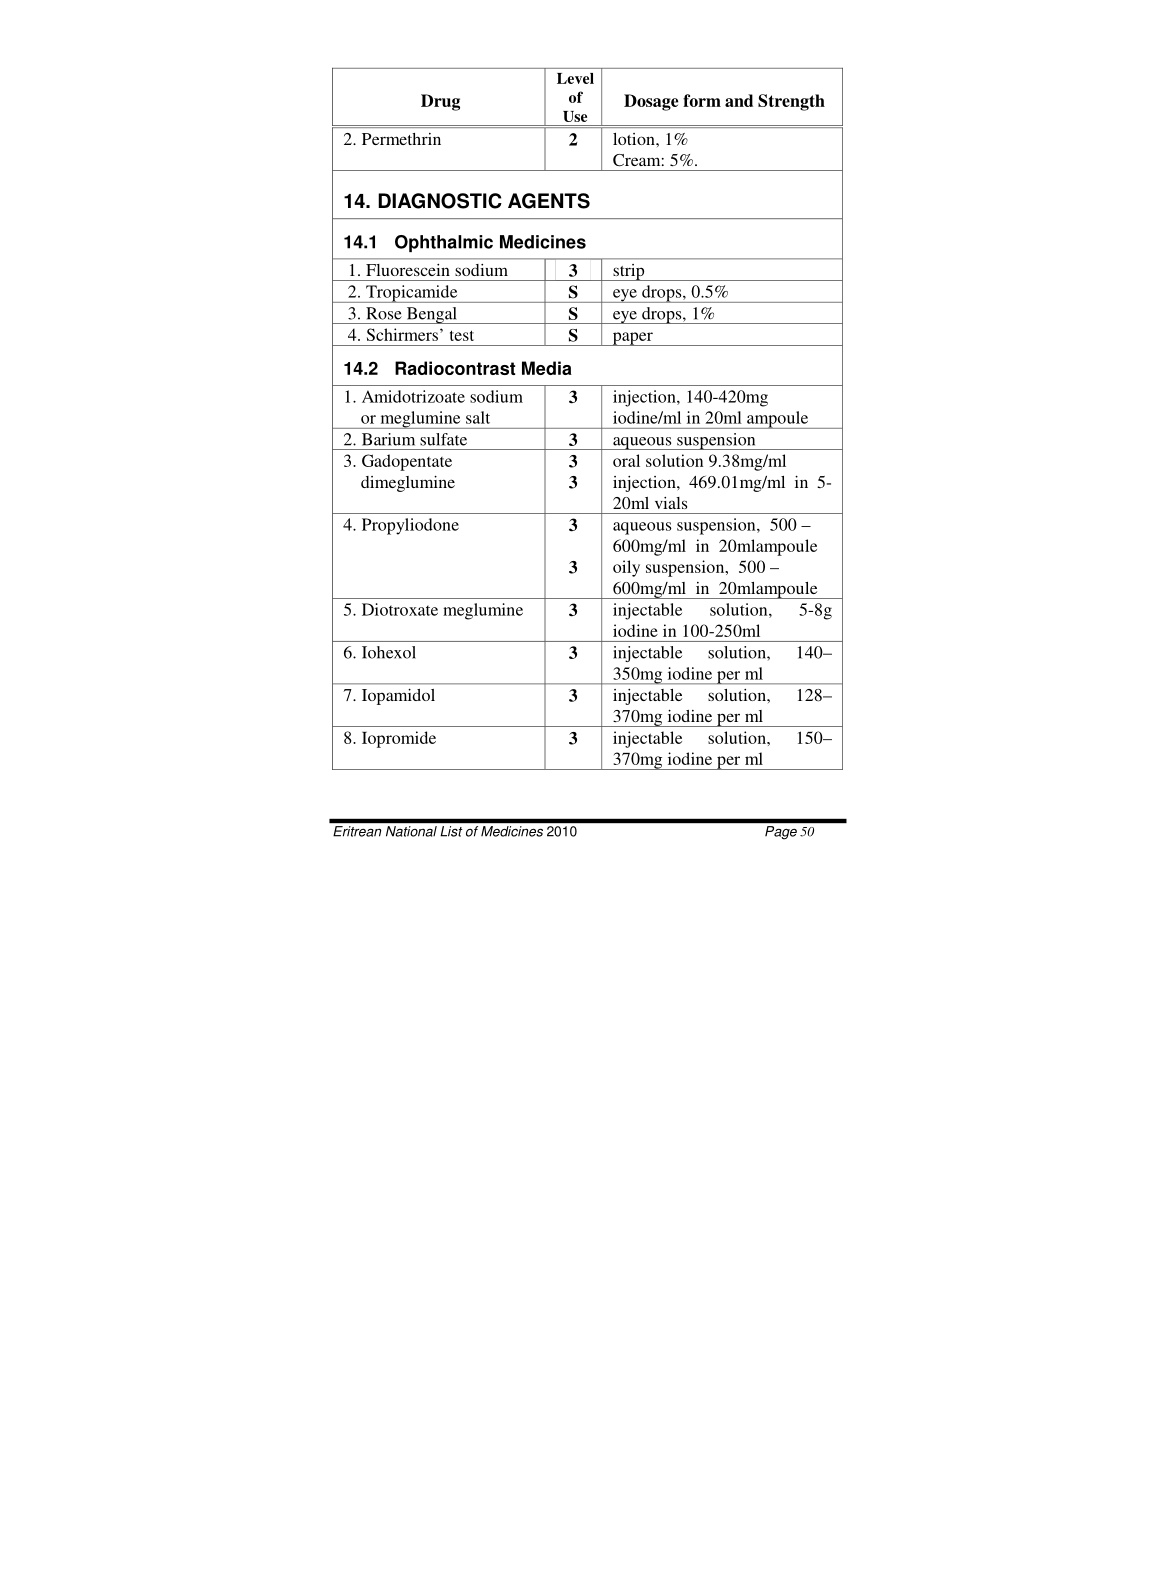merged_cells: (331, 65, 842, 771)
